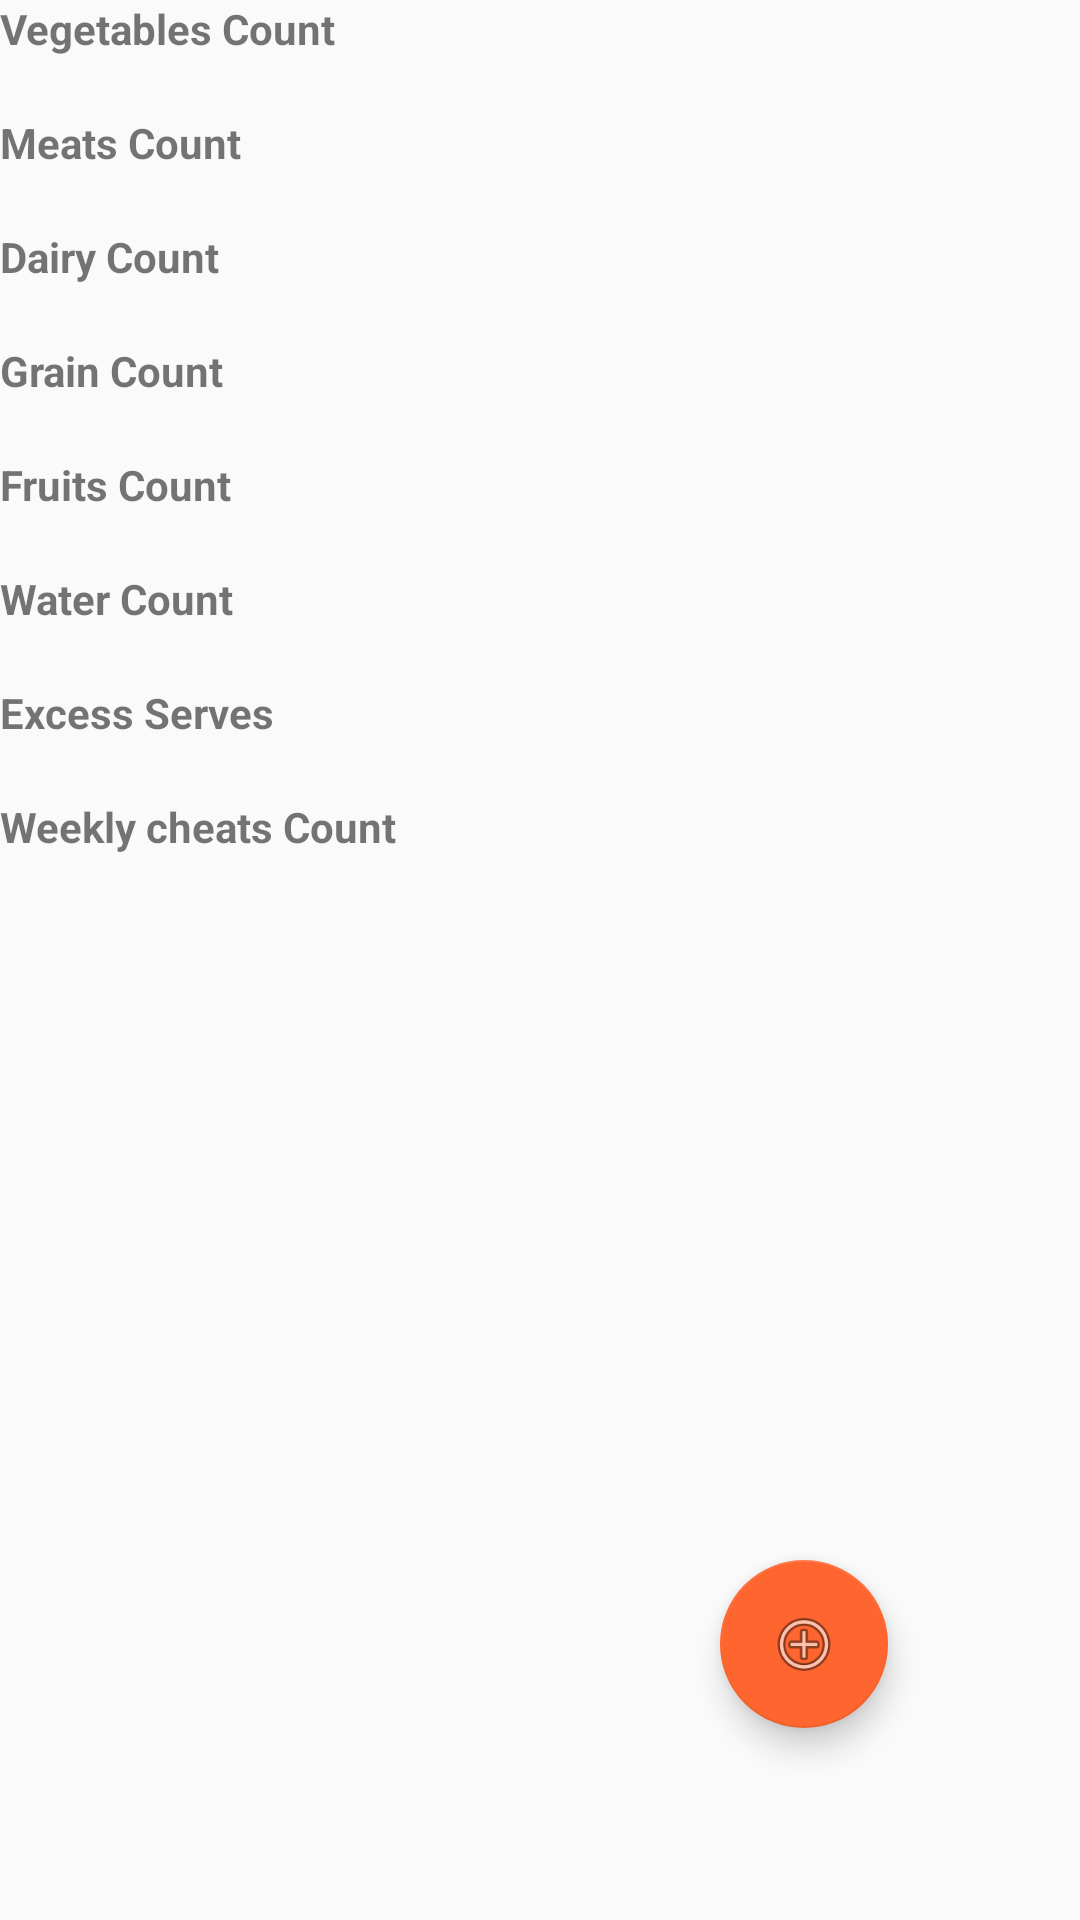

Icon click points for this 1080x1920 phone screenshot, format (x=x, y=y):
add: (x=804, y=1644)
